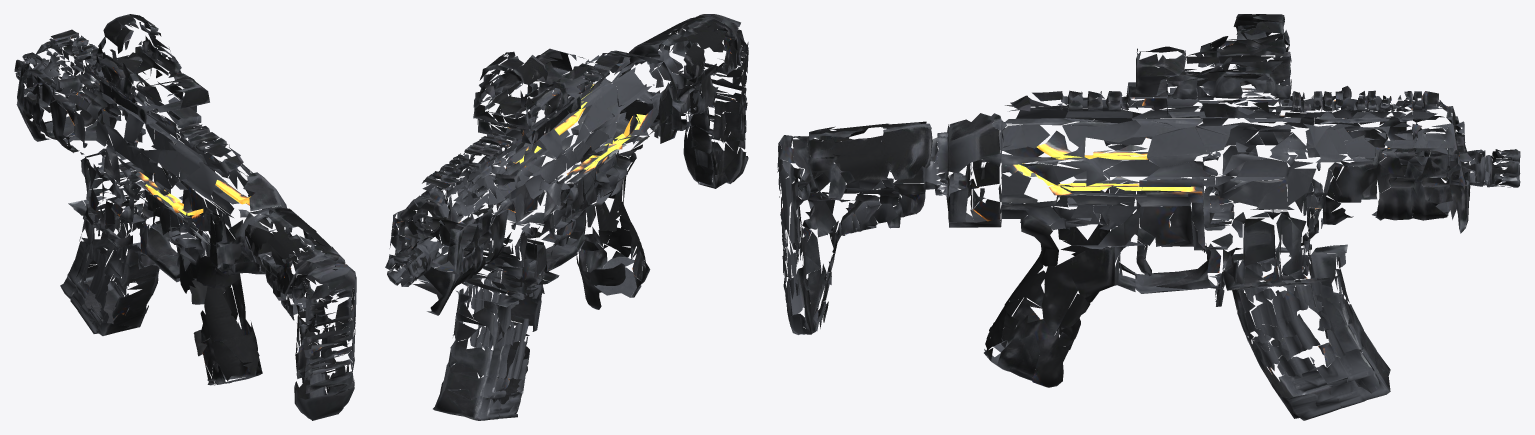
The model's file is rifle-smg.glb.
3 renders of one model, left to right at view 1: azimuth 30°, elevation 25°; view 2: azimuth 150°, elevation 25°; view 3: azimuth 270°, elevation 25°, orthographic. The views are drawn at different scales.
Parts seen in each view (by area): view 1: RifleBody, RifleMag; view 2: RifleBody, RifleMag; view 3: RifleBody, RifleMag.
Part boxes in pixels (x1,y1,x2,y2): RifleBody: (14,14,356,420); RifleMag: (60,195,159,335); RifleBody: (385,14,748,315); RifleMag: (433,257,559,420); RifleBody: (777,14,1520,387); RifleMag: (1222,244,1390,420).
Bounding box in the file's own units: 0.1127 × 0.4339 × 0.7519.
1 material, 1 textured.
